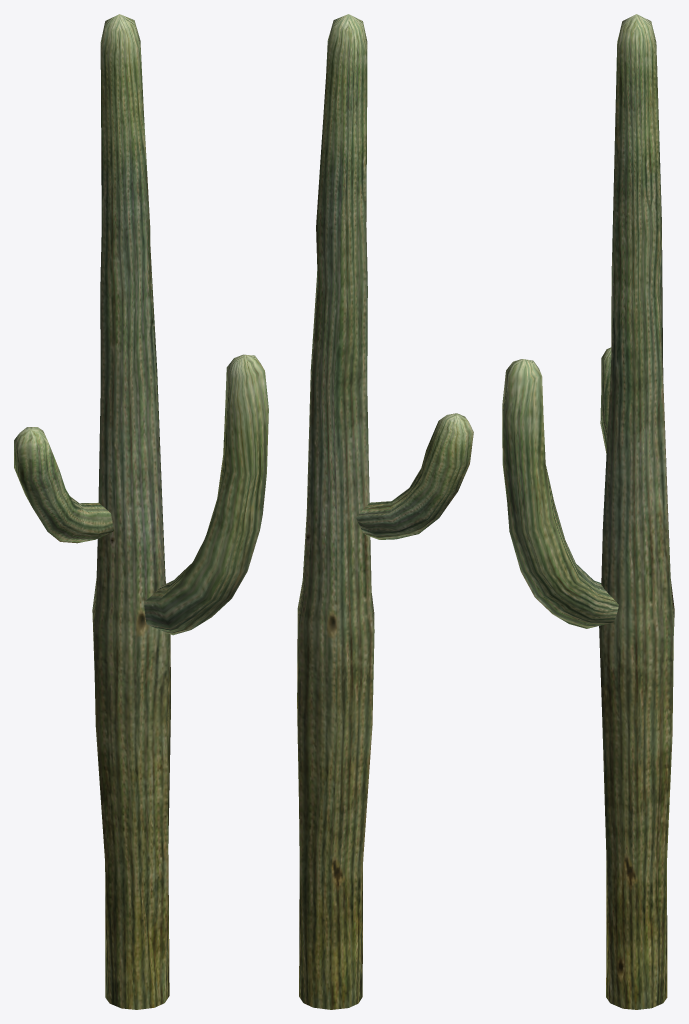
File: DesertPlant01C.FBX
3 renders of one model, left to right at view 1: azimuth 30°, elevation 25°; view 2: azimuth 150°, elevation 25°; view 3: azimuth 270°, elevation 25°, orthographic.
Visible parts, largest first — view 1: DesertPlant01C; view 2: DesertPlant01C; view 3: DesertPlant01C.
Boxes of the visible parts, <box> form: DesertPlant01C: <box>14,14,268,1009</box>; DesertPlant01C: <box>297,14,473,1009</box>; DesertPlant01C: <box>502,14,674,1009</box>.
Bounding box in the file's own units: 5.33 × 24.77 × 3.98.
Materials: 1 (1 with a texture image).
